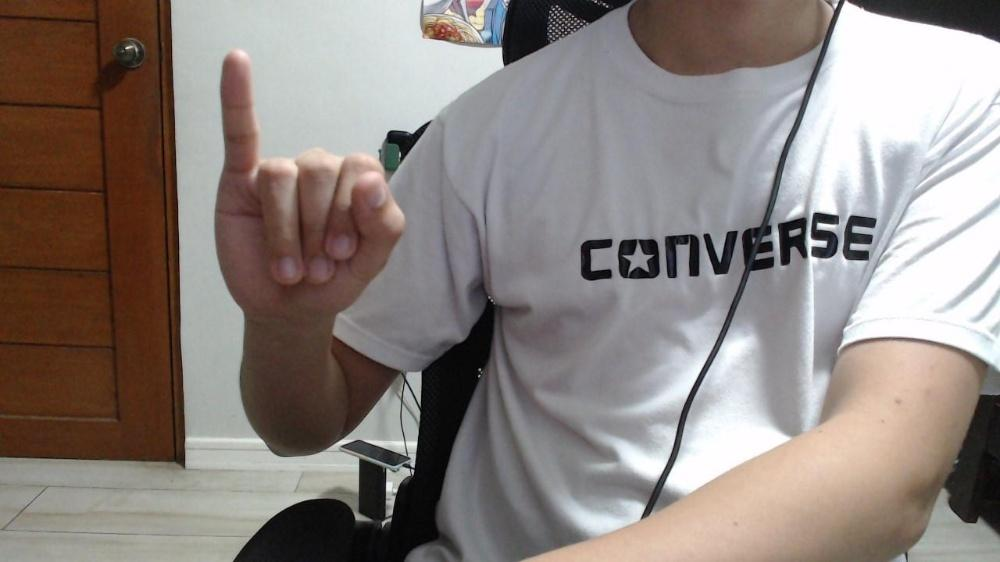i: (213, 48, 406, 315)
